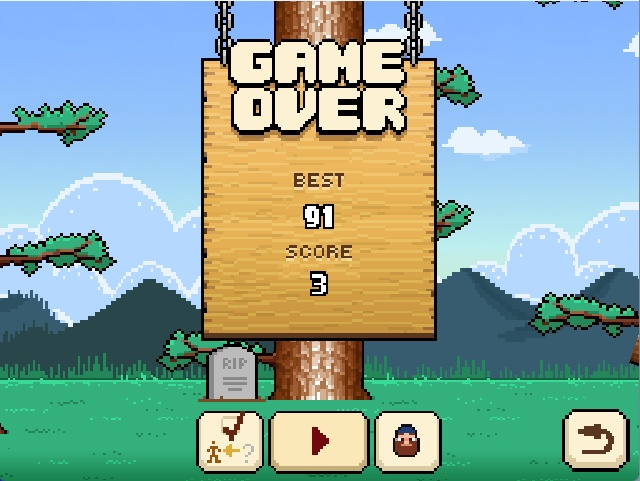game_over: (223, 37, 412, 143)
